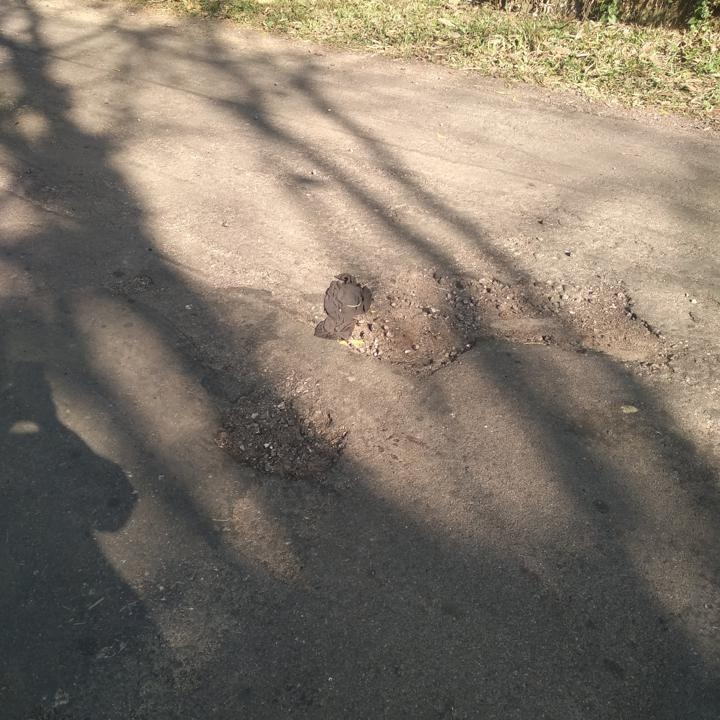pothole: (334, 263, 680, 380), (212, 384, 354, 479)
